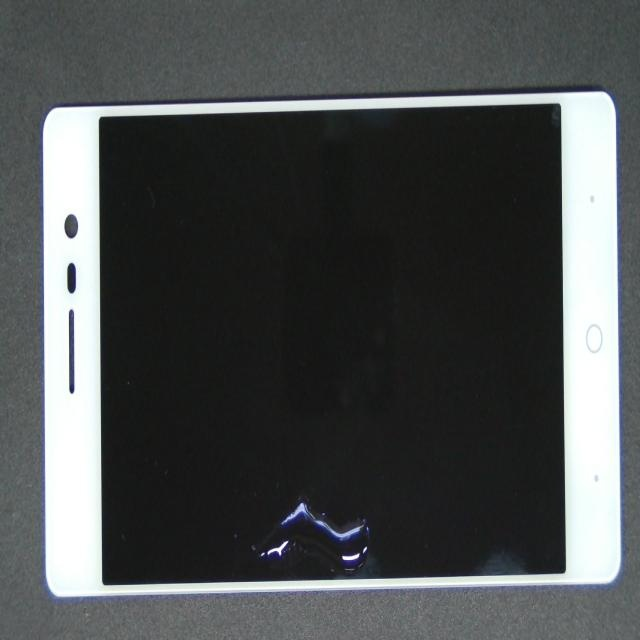oil: (131, 281, 496, 640)
